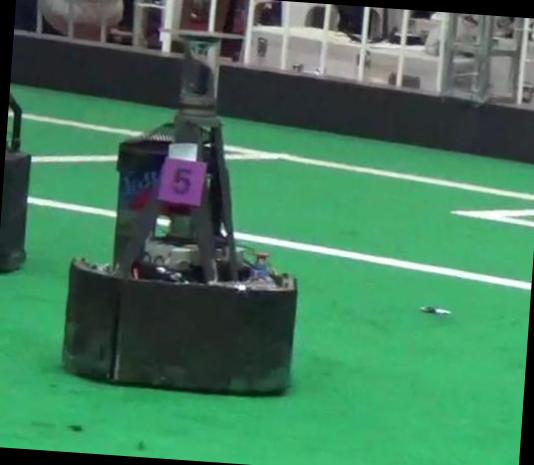robot: (63, 30, 297, 394)
